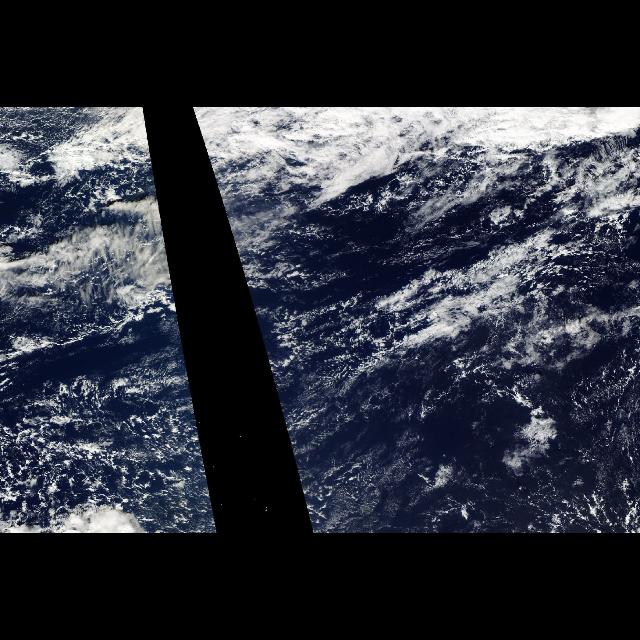Fish: (227, 220, 627, 374)
Gravel: (2, 358, 218, 534)
